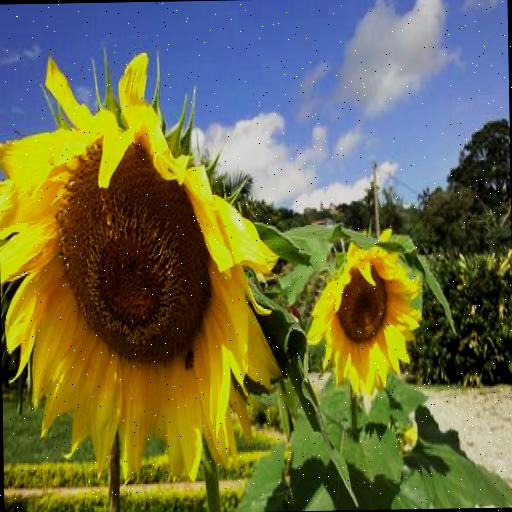sunflower: (0, 44, 280, 491), (304, 226, 422, 404)
